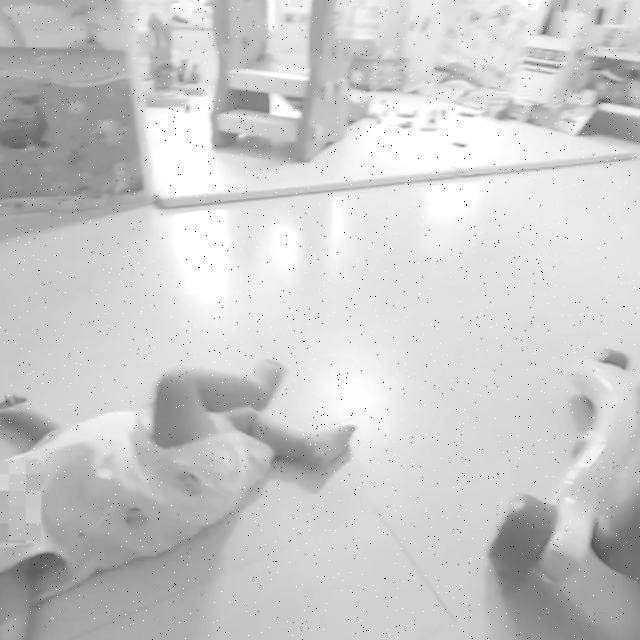child: (0, 351, 361, 640)
